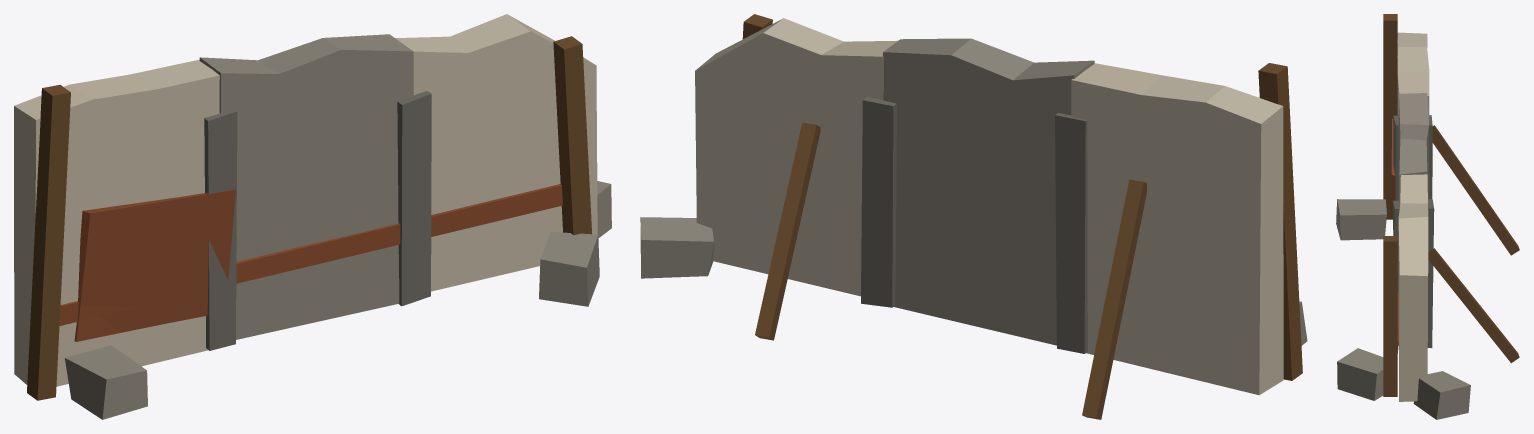
The model's file is scrap_wall.glb.
3 views of the same model, side by side, from view 1: azimuth 30°, elevation 25°; view 2: azimuth 150°, elevation 25°; view 3: azimuth 270°, elevation 25° (orthographic). The views are drawn at different scales.
Visible parts, largest first — view 1: scrap_wall; view 2: scrap_wall; view 3: scrap_wall.
Part boxes in pixels (x1,y1,x2,y2): scrap_wall: [14, 14, 611, 419]; scrap_wall: [640, 14, 1307, 419]; scrap_wall: [1336, 14, 1519, 419].
Bounding box in the file's own units: 8.34 × 3.99 × 3.18.
